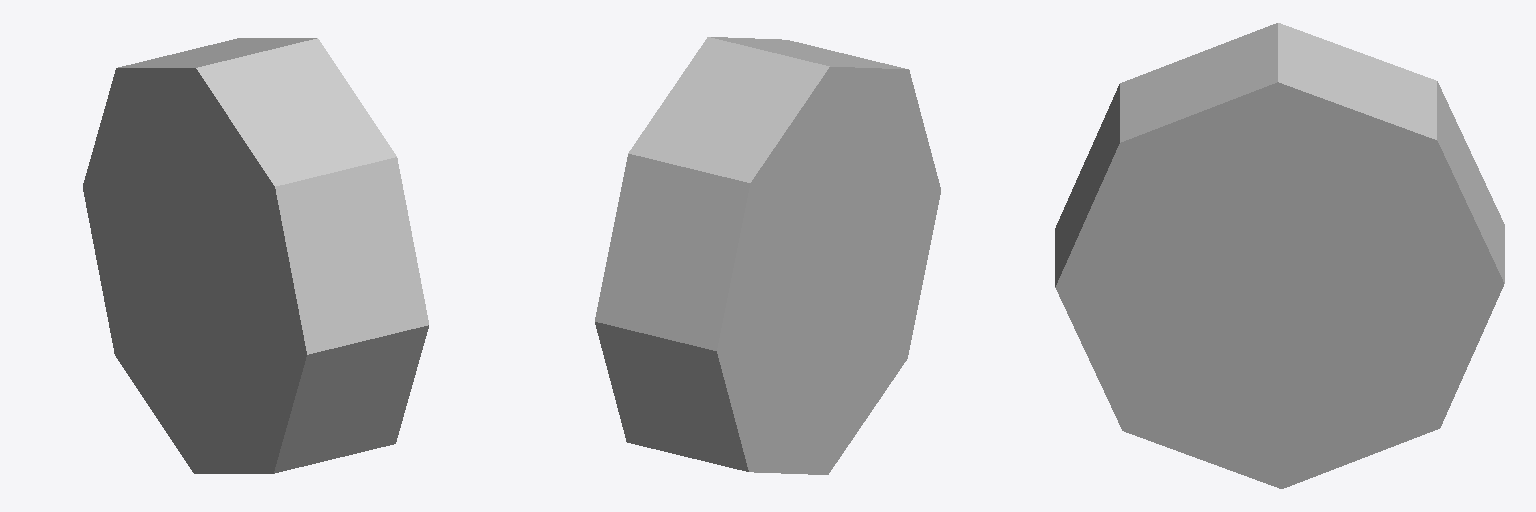
Rendered from tire5.obj.
The picture shows the model from 3 angles: view 1: azimuth 30°, elevation 25°; view 2: azimuth 150°, elevation 25°; view 3: azimuth 270°, elevation 25°; orthographic projection.
Parts seen in each view (by area): view 1: Car5; view 2: Car5; view 3: Car5.
Boxes of the visible parts, x1=… form: Car5: x1=83, y1=38, x2=428, y2=473; Car5: x1=595, y1=37, x2=940, y2=474; Car5: x1=1055, y1=23, x2=1504, y2=488.
Size of the model in its own units: 0.3187 by 1.01 by 1.01.